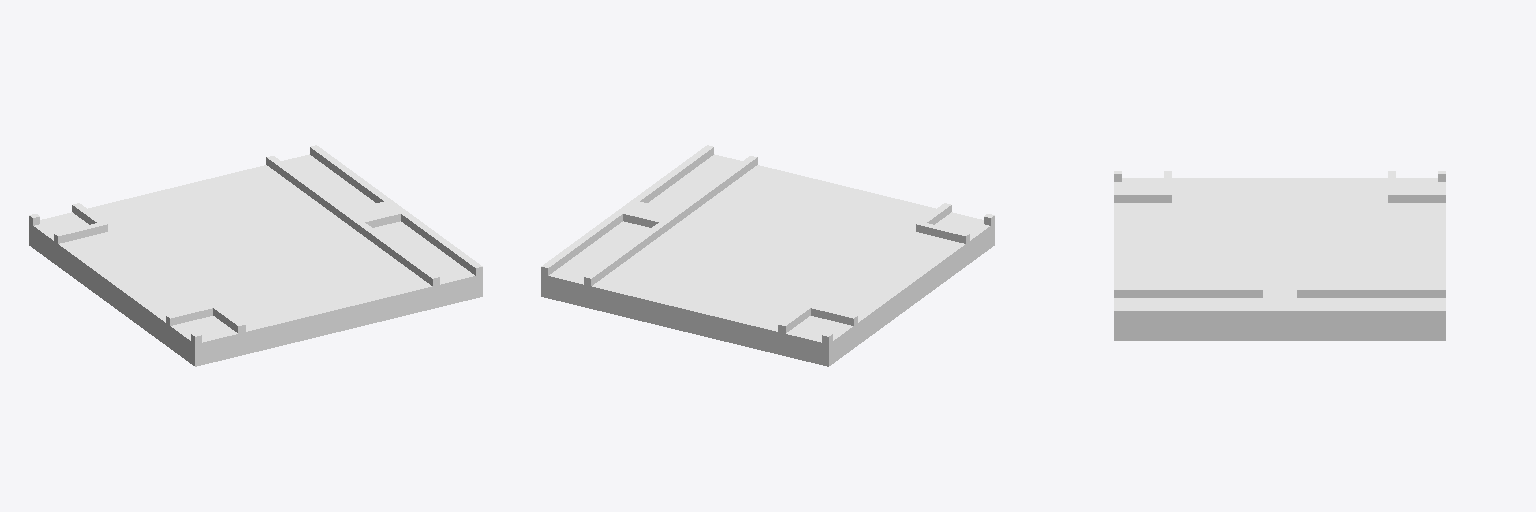
File: RoadT4.vox.obj
The picture shows the model from 3 angles: view 1: azimuth 30°, elevation 25°; view 2: azimuth 150°, elevation 25°; view 3: azimuth 270°, elevation 25°; orthographic projection.
Visible parts, largest first — view 1: object 1; view 2: object 1; view 3: object 1.
Boxes of the visible parts, box(x1,y1,x2,y2) form: object 1: box(29, 145, 482, 366); object 1: box(541, 145, 994, 366); object 1: box(1114, 171, 1445, 340).
Size of the model in its own units: 4 by 0.4 by 4.